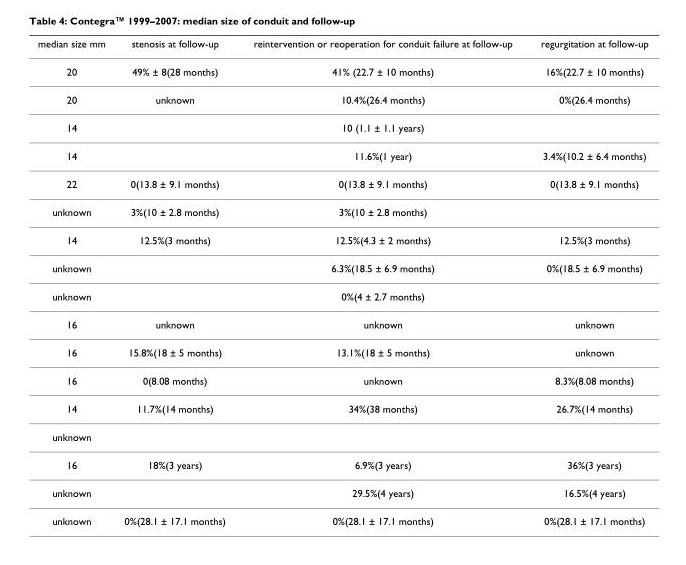table: (37, 37, 647, 526)
table column: (238, 37, 525, 526), (114, 37, 238, 526), (525, 37, 647, 526), (37, 37, 114, 526)
table column header: (37, 37, 647, 57)
table projected row header: (37, 422, 647, 450)
table row: (37, 337, 647, 366), (37, 57, 647, 85), (37, 85, 647, 113), (37, 113, 647, 141), (37, 141, 647, 169), (37, 169, 647, 197), (37, 197, 647, 225), (37, 225, 647, 253), (37, 253, 647, 281), (37, 281, 647, 309), (37, 309, 647, 337), (37, 366, 647, 394), (37, 394, 647, 422), (37, 422, 647, 450), (37, 450, 647, 478), (37, 478, 647, 506), (37, 37, 647, 57), (37, 506, 647, 526)
